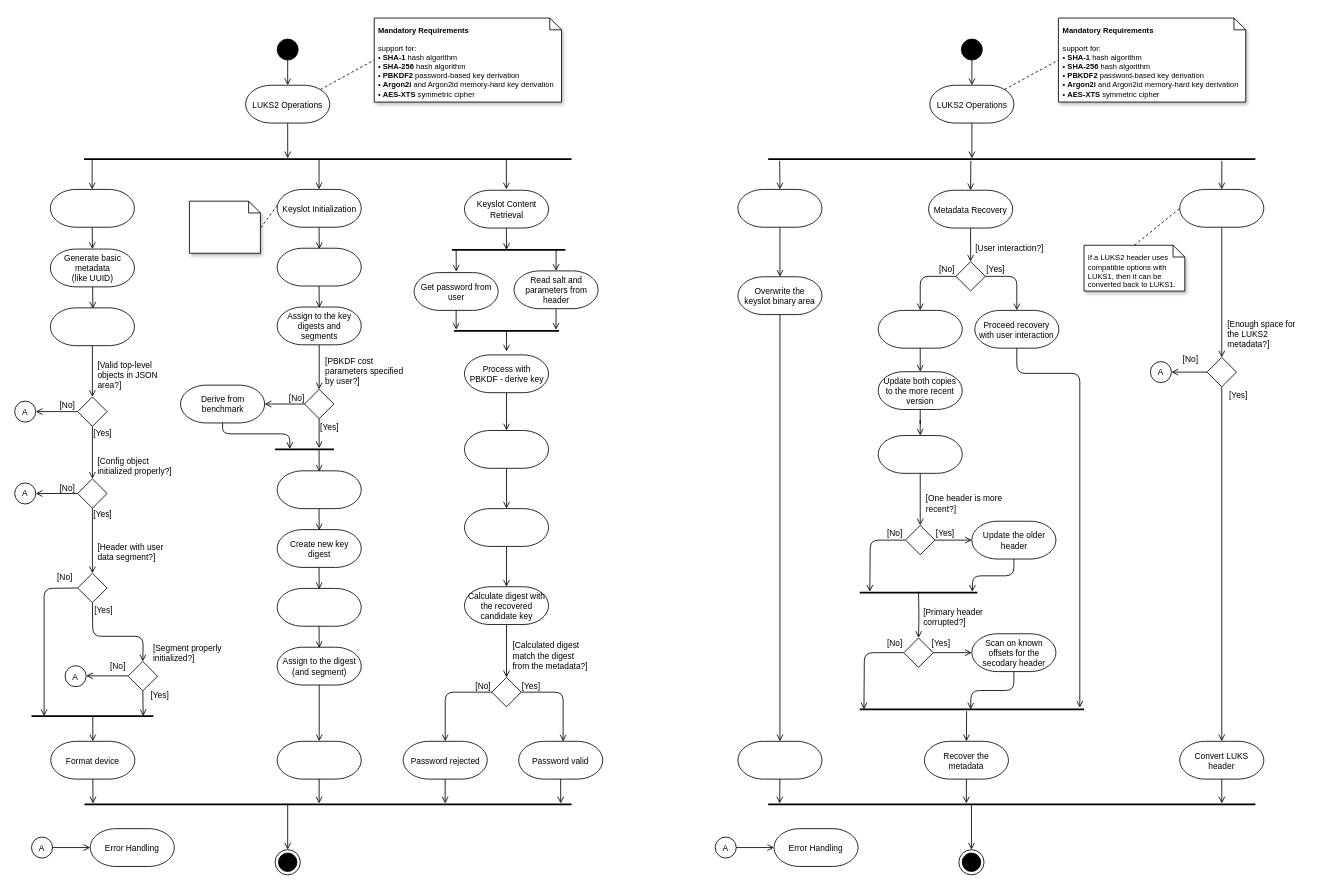
This 1318x890 diagram has some shape labels left out. The centre of each missing label's shape, as x and y in pixels:
"Allocate new keyslot and metadata" belongs at (318,266).
"Allocate new keyslot object" belongs at (318,607).
"Automated recovery" belongs at (919,329).
"Conversion from LUKS1" belongs at (1221,208).
"Decrypt the binary keyslot area" belongs at (506,449).
"Device Formatting" belongs at (92,208).
"Key and salt must be generated using a cryptographically secure RNG" belongs at (225,228).
"Keyslot Revocation" belongs at (779,208).
"Load the primary, then the secondary header" belongs at (919,454).
"Merge the decrypted content in the AF splitter" belongs at (506,527).
"Remove keyslot metadata object with all bindings" belongs at (779,759).
"Use PBKDF cost parameters" belongs at (318,489).
"Write both binary headers and basic metadata" belongs at (92,326).
"Write the encrypted key to the allocated binary keyslot area" belongs at (318,759).
